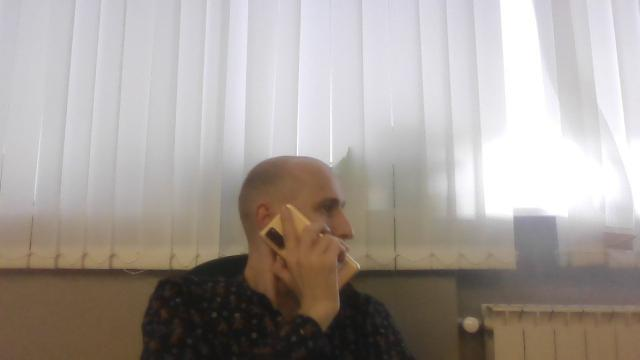PhoneUse: (258, 202, 360, 296)
